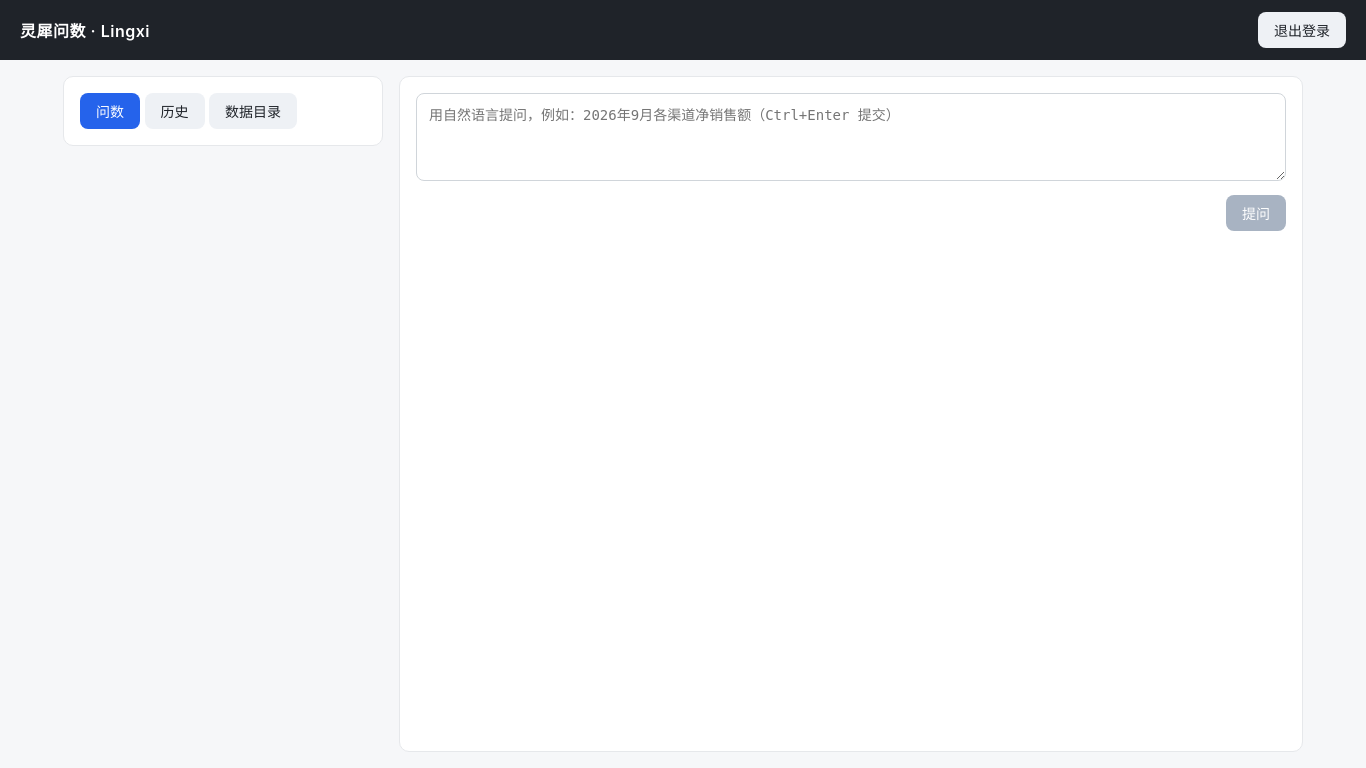
Test: 提交持久任务后展示执行结果，并保留Decimal字符串
The width and height of the screenshot is (1366, 768).
Step 1. Type "各型号净销售额" into the text box → point(851, 137), box left=416, top=93, right=1286, bottom=181
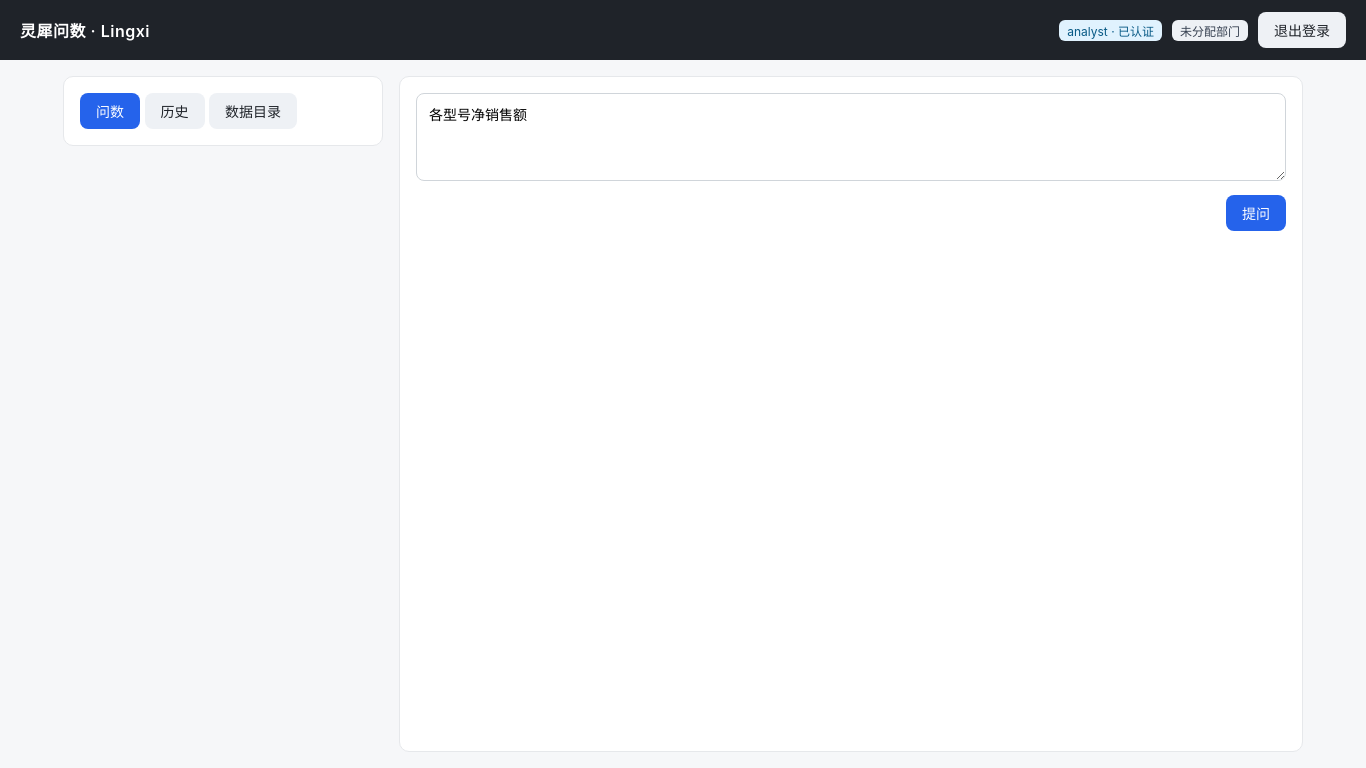
Step 2. Click the button "提问" → point(1256, 213), box left=1226, top=195, right=1286, bottom=231
(page scrolled)
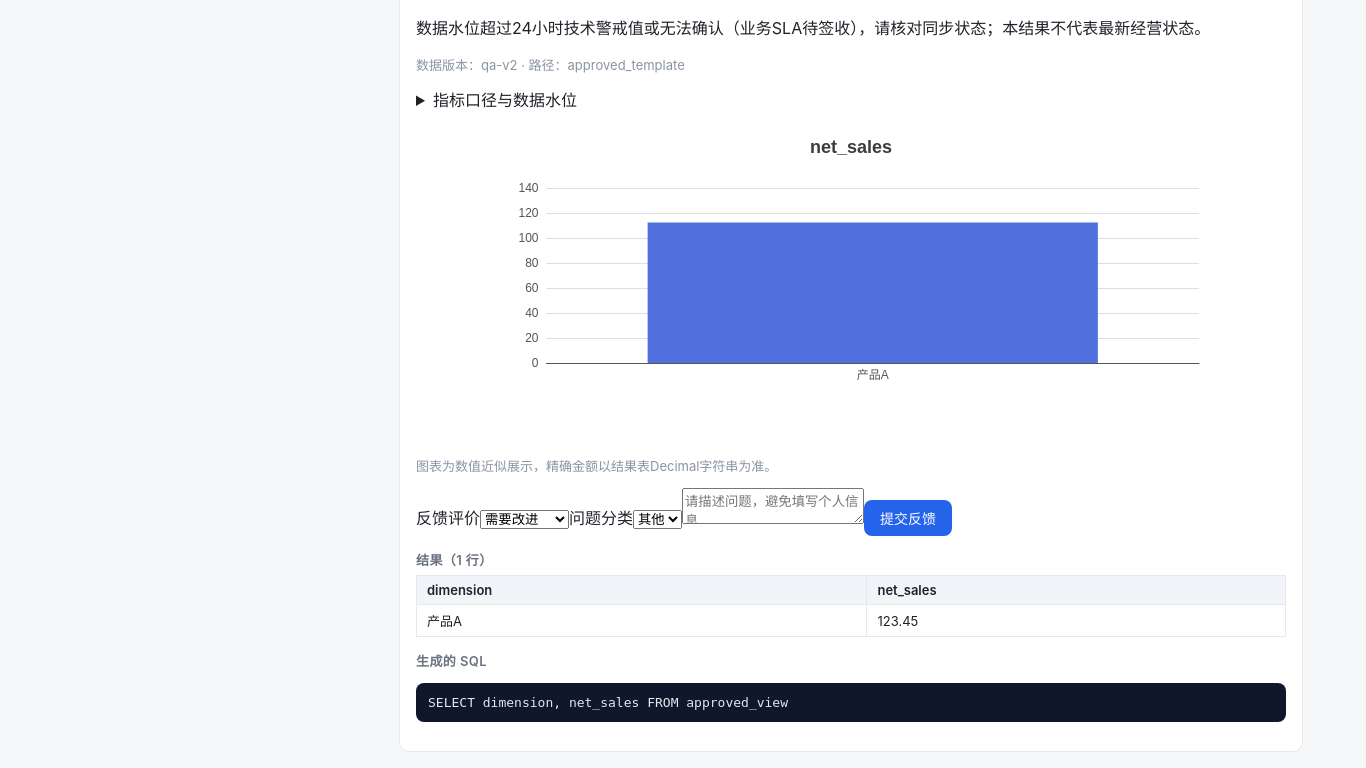
Expected: the text "123.45" is shown, left=867, top=604, right=1286, bottom=636
